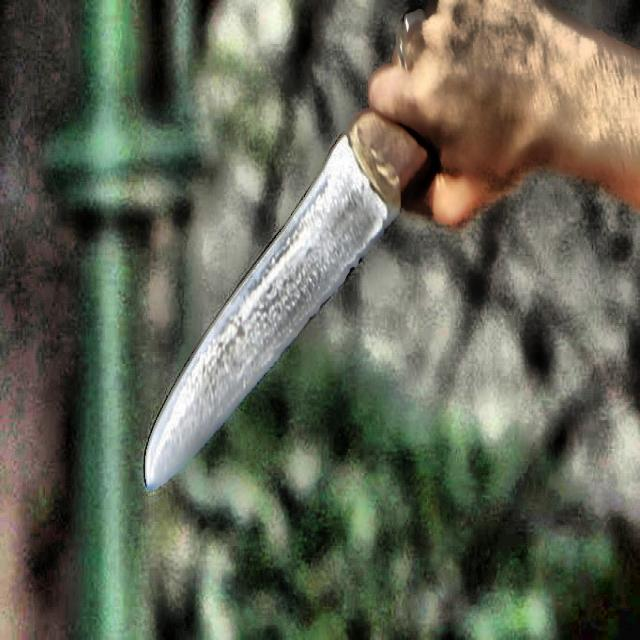knife: (146, 113, 434, 486)
